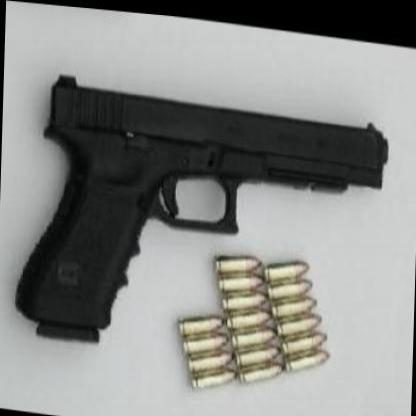pistol: (12, 69, 384, 375)
